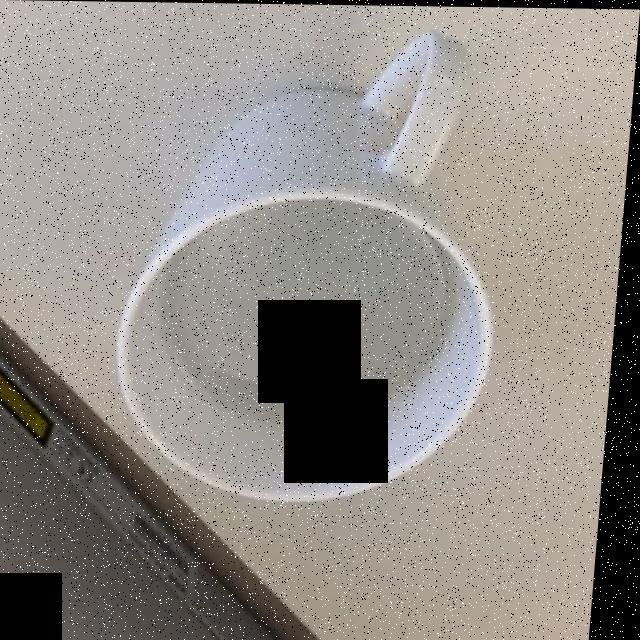water: (169, 202, 465, 408)
